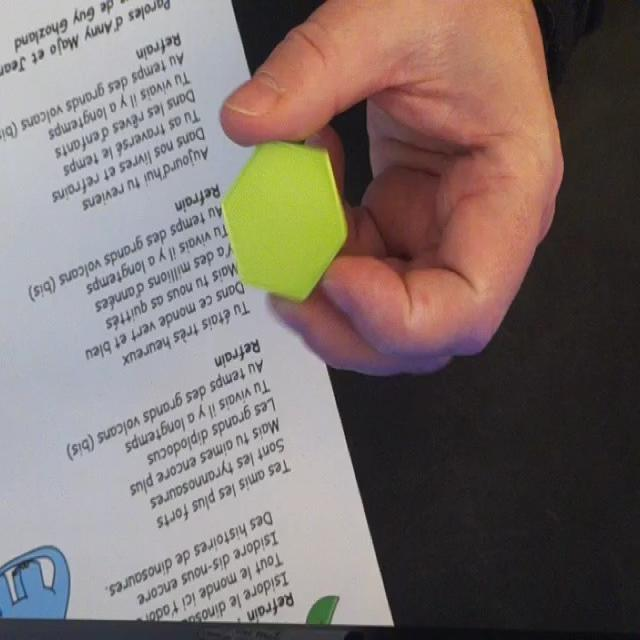hexagon: (220, 134, 347, 302)
